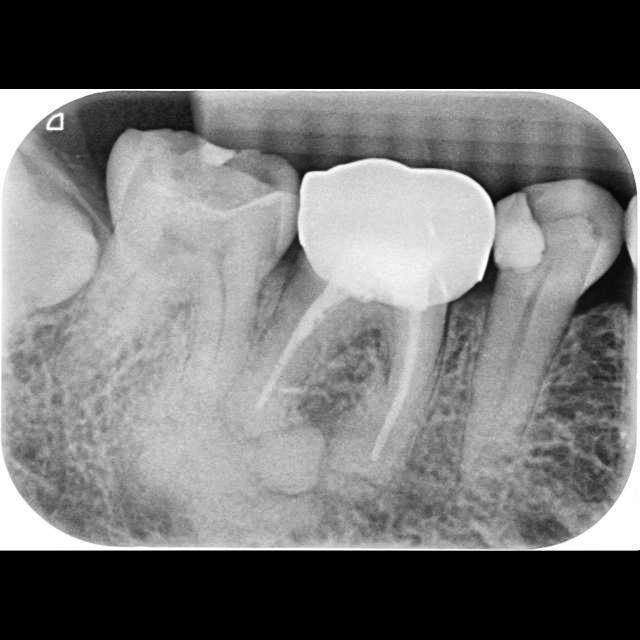teeth: (463, 181, 621, 470)
